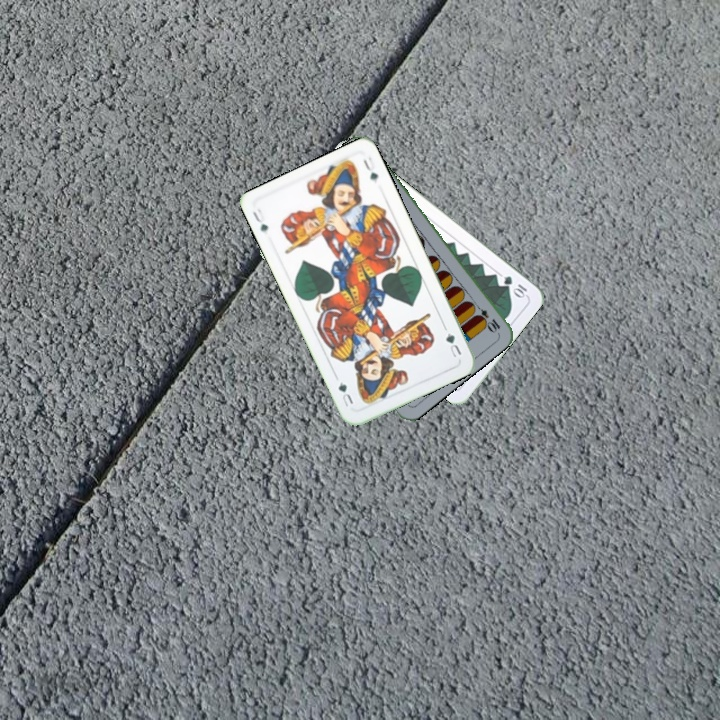E10: (470, 299, 503, 335)
G10: (499, 271, 530, 300)
GU: (442, 328, 464, 360), (248, 205, 271, 234)
